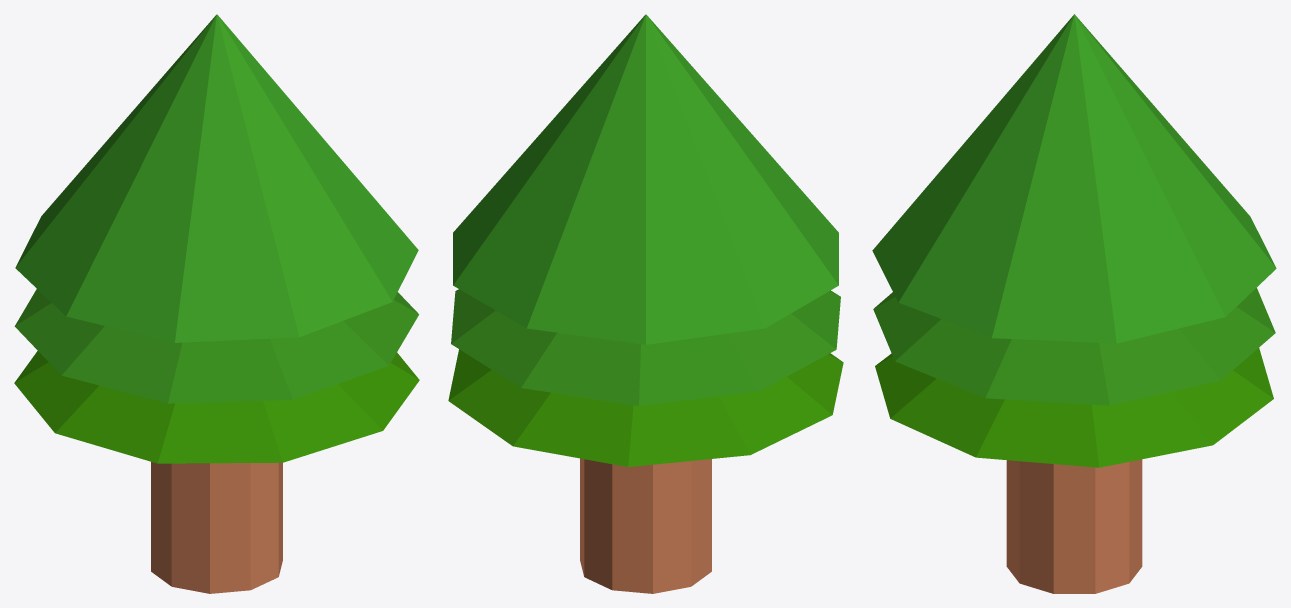
Rendered from tree.glb.
3 renders of one model, left to right at view 1: azimuth 30°, elevation 25°; view 2: azimuth 150°, elevation 25°; view 3: azimuth 270°, elevation 25°, orthographic.
Visible parts, largest first — view 1: Cone.002, Cone.001, Cone, Cylinder; view 2: Cone.002, Cone.001, Cone, Cylinder; view 3: Cone.002, Cone, Cone.001, Cylinder.
Boxes of the visible parts, x1,y1,x2,y2 form: Cone.002: (15,14,418,342); Cone.001: (14,289,418,403); Cone: (14,351,419,463); Cylinder: (151,462,282,593); Cone.002: (453,14,838,344); Cone.001: (451,289,840,405); Cone: (448,349,843,466); Cylinder: (580,458,711,593); Cone.002: (872,14,1276,343); Cone: (875,348,1273,467); Cone.001: (873,287,1275,405); Cylinder: (1006,459,1142,593).
Size of the model in its own units: 5.96 by 9 by 5.97.
